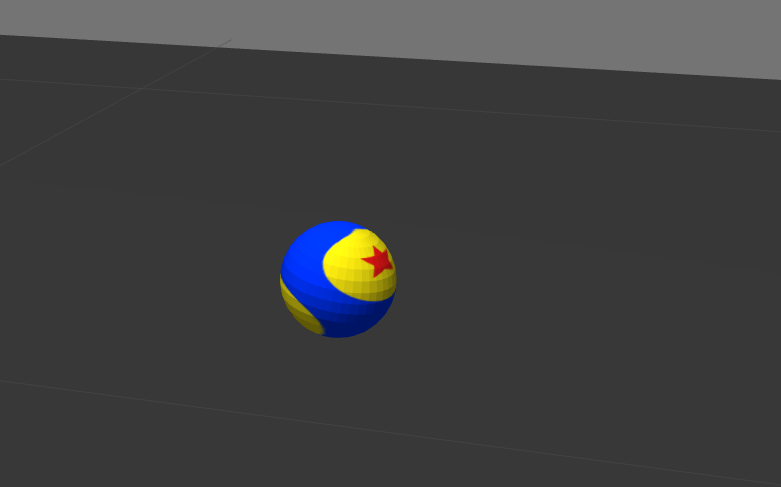toy story ball: (278, 221, 397, 339)
